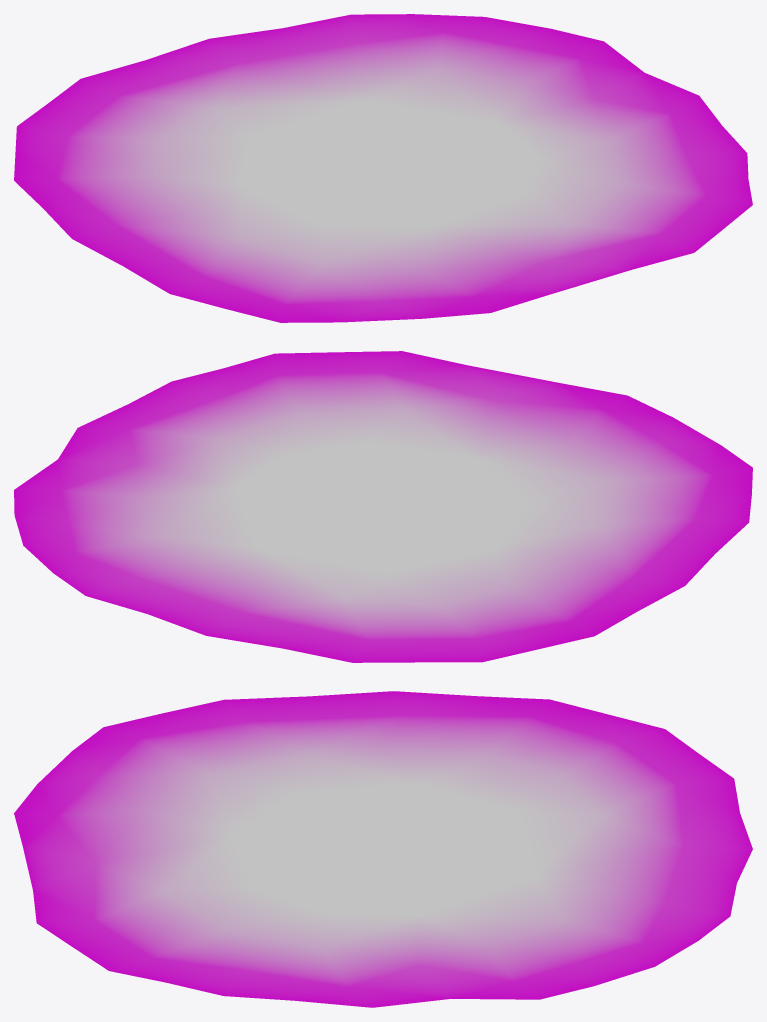
The model's file is SM_VFX_Pyro_Explosion_Plane_01.fbx.
3 views of the same model, one above another, from view 1: azimuth 30°, elevation 25°; view 2: azimuth 150°, elevation 25°; view 3: azimuth 270°, elevation 25° (orthographic). The views are drawn at different scales.
Visible parts, largest first — view 1: SM_VFX_Pyro_Explosion_Plane_01; view 2: SM_VFX_Pyro_Explosion_Plane_01; view 3: SM_VFX_Pyro_Explosion_Plane_01.
Part boxes in pixels (x1,y1,x2,y2): SM_VFX_Pyro_Explosion_Plane_01: (14, 14, 752, 322); SM_VFX_Pyro_Explosion_Plane_01: (14, 351, 752, 662); SM_VFX_Pyro_Explosion_Plane_01: (14, 691, 752, 1007).
Size of the model in its own units: 91.48 by 5.52e-15 by 90.21.
